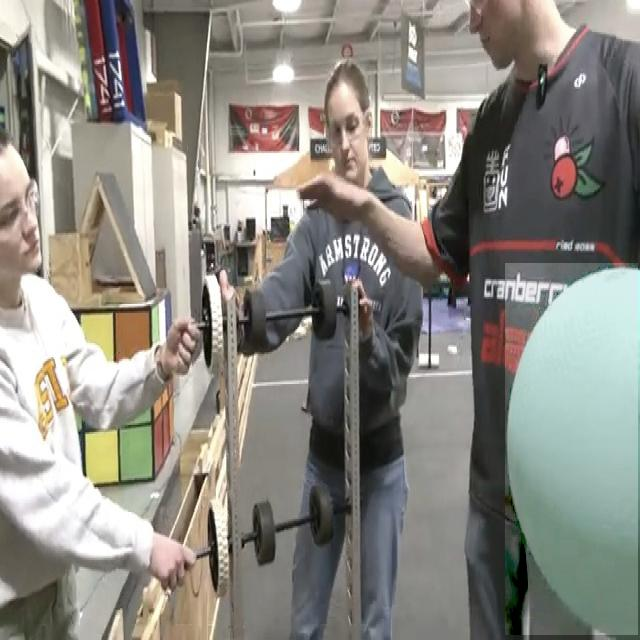Algae: (505, 263, 638, 635)
